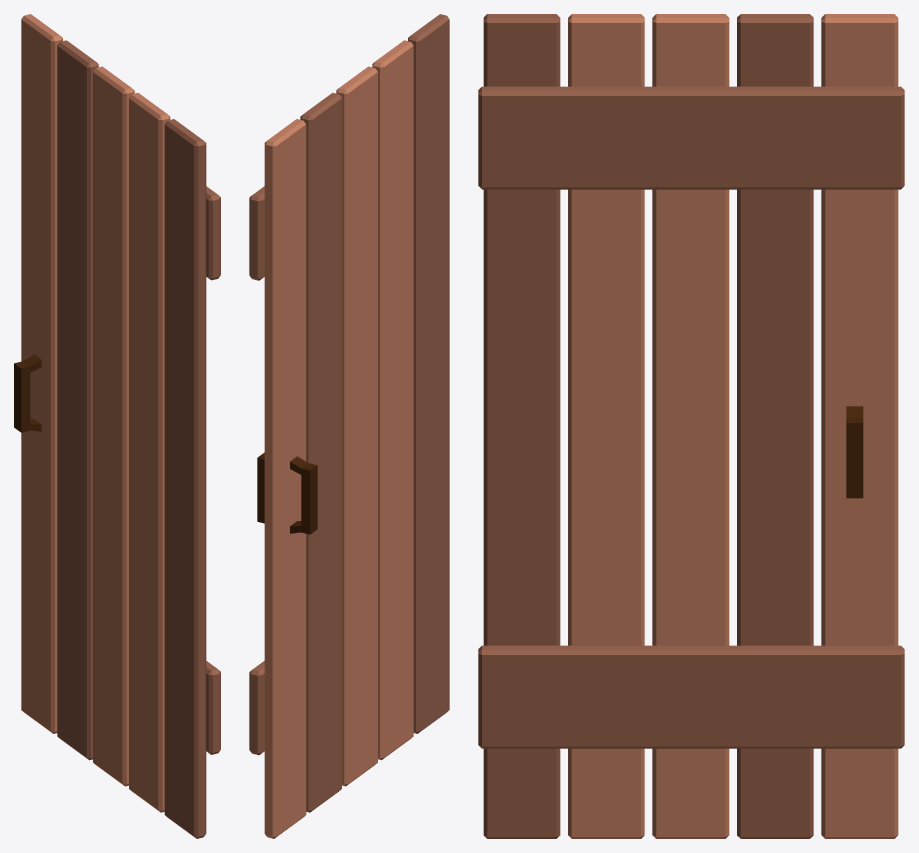
The model's file is Door.fbx.
3 renders of one model, left to right at view 1: azimuth 30°, elevation 25°; view 2: azimuth 150°, elevation 25°; view 3: azimuth 270°, elevation 25°, orthographic. The views are drawn at different scales.
Visible parts, largest first — view 1: Door.002; view 2: Door.002; view 3: Door.002.
Part boxes in pixels (x1,y1,x2,y2): Door.002: [14, 14, 220, 838]; Door.002: [249, 14, 449, 838]; Door.002: [478, 14, 904, 838].
Bounding box in the file's own units: 17.53 × 220 × 104.
